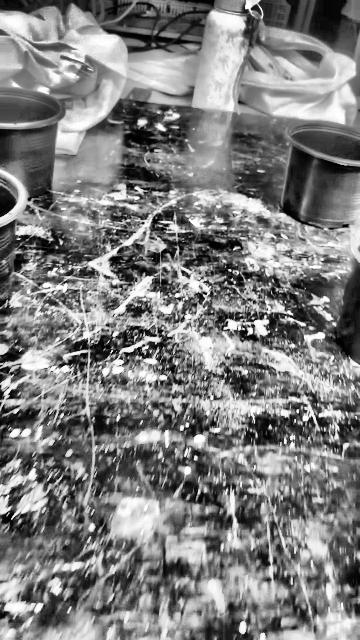pot: (283, 121, 360, 229), (0, 86, 65, 210), (0, 169, 27, 303), (337, 231, 359, 363)
